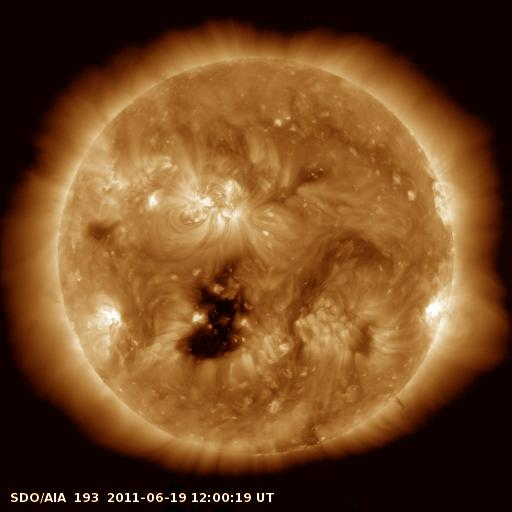coronal_hole: (175, 279, 253, 366)
